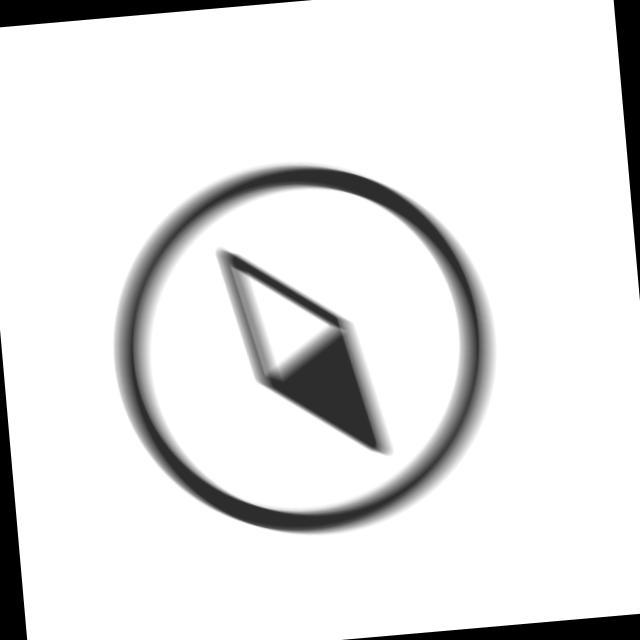compass: (93, 145, 517, 560)
